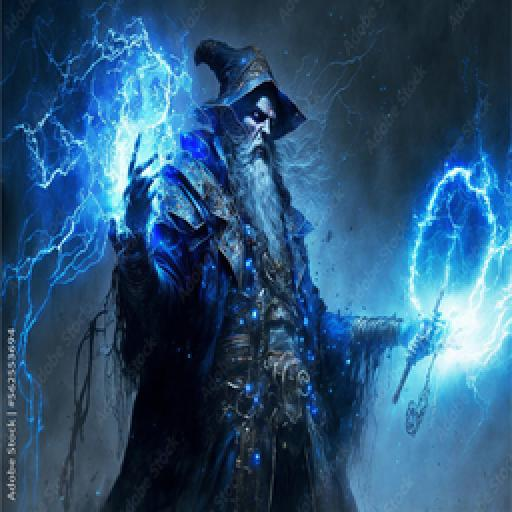wizards: (113, 32, 441, 512)
